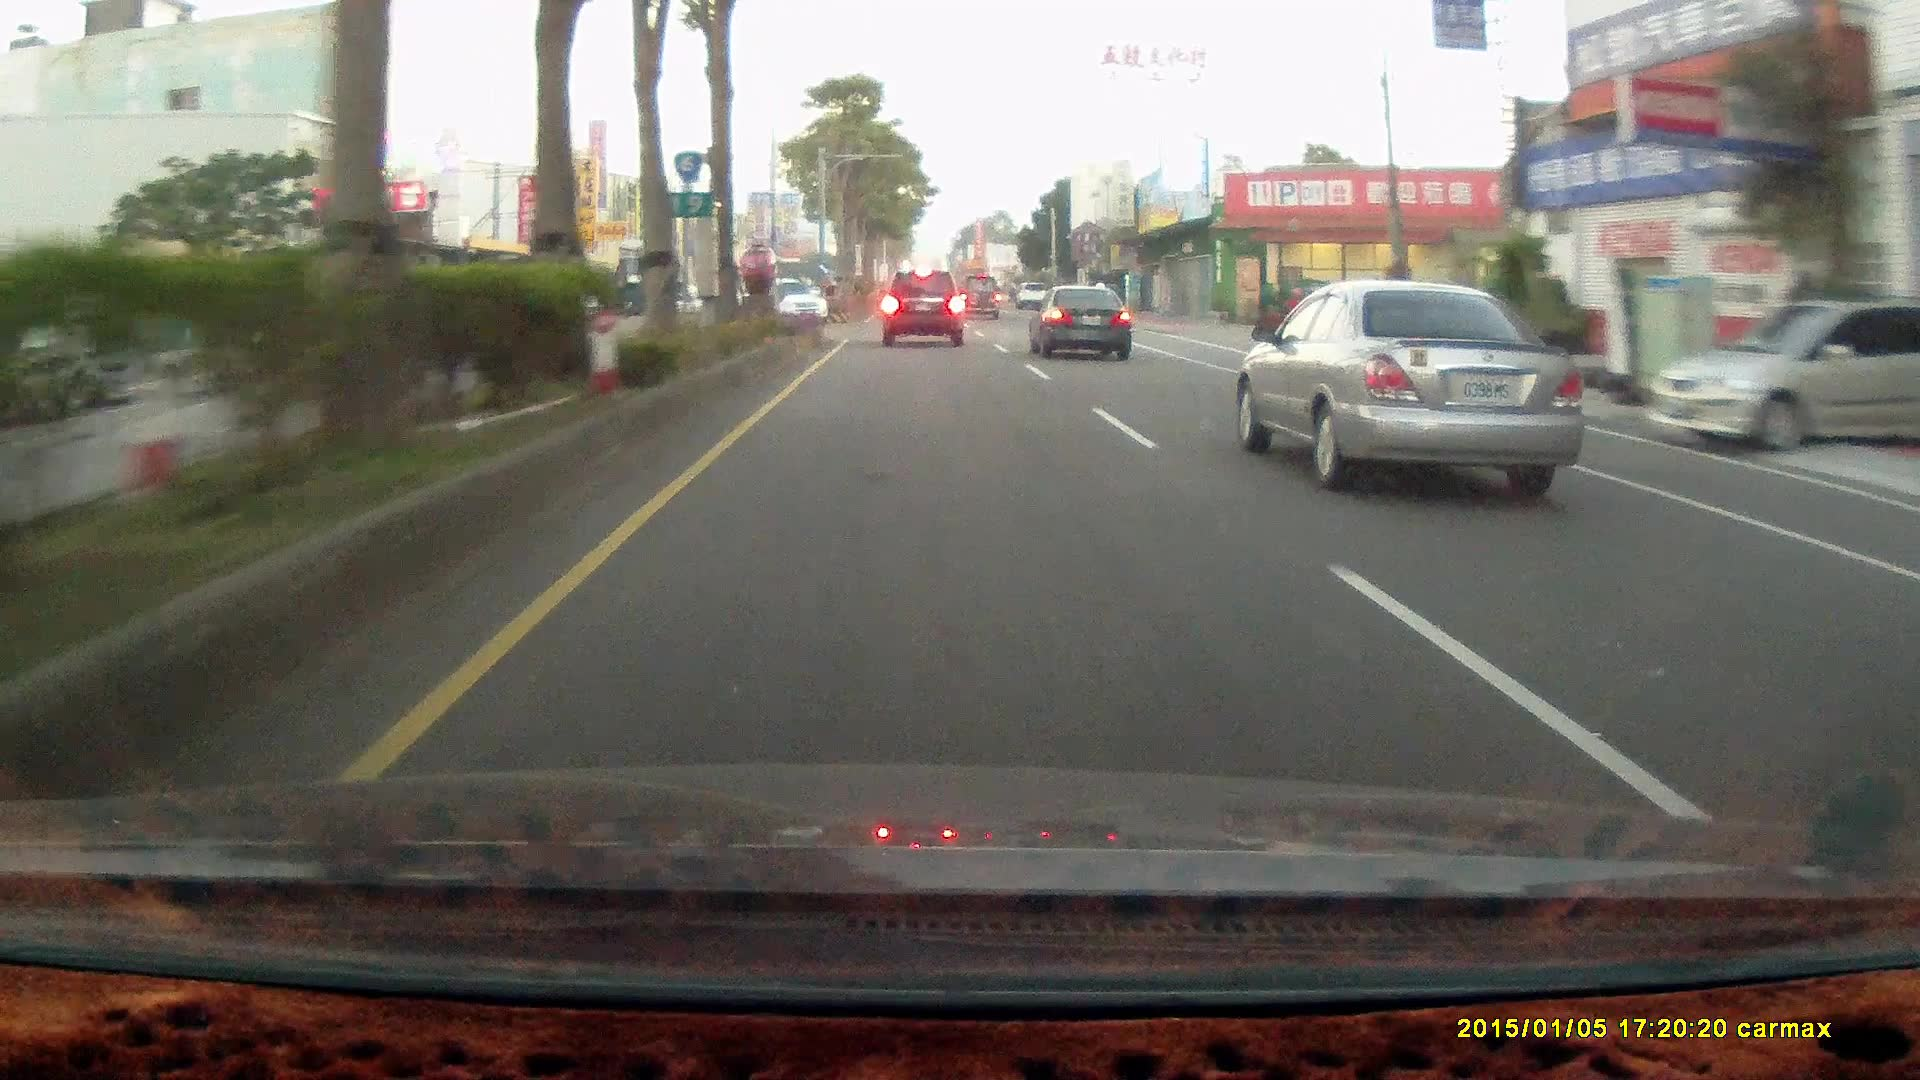vehicle: (1238, 291, 1578, 504), (1638, 290, 1919, 454), (1646, 297, 1920, 462), (1029, 285, 1137, 364), (1027, 282, 1131, 361), (881, 272, 969, 353), (881, 272, 963, 347), (764, 276, 827, 331), (957, 276, 1004, 322), (956, 276, 1001, 320)
